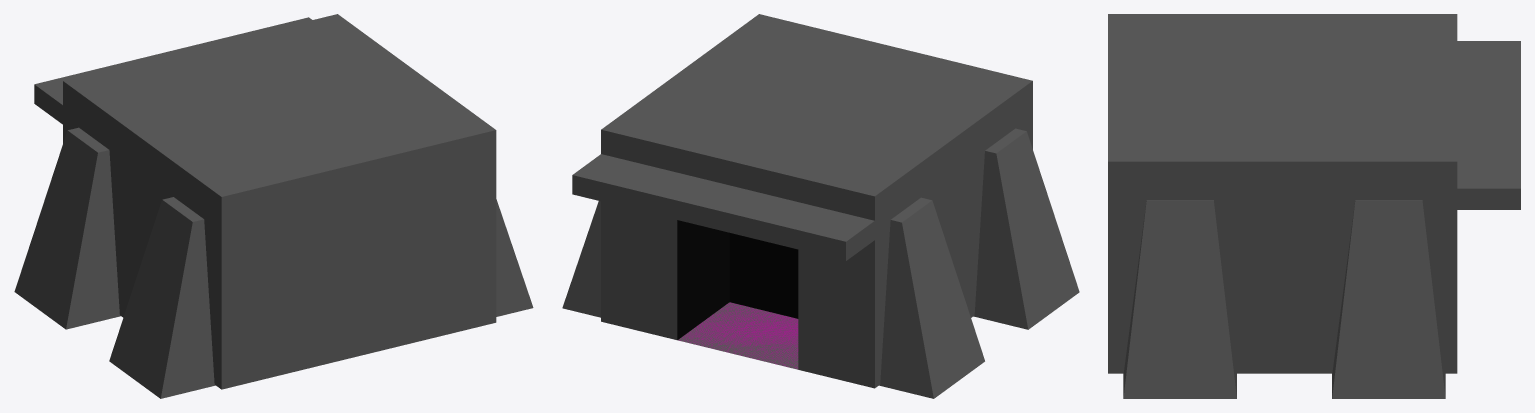
Rendered from Spawner.obj.
The picture shows the model from 3 angles, left to right: view 1: azimuth 30°, elevation 25°; view 2: azimuth 150°, elevation 25°; view 3: azimuth 270°, elevation 25°; orthographic projection. The views are drawn at different scales.
Parts seen in each view (by area): view 1: Cube.005_Cube.014; view 2: Cube.005_Cube.014; view 3: Cube.005_Cube.014.
Part boxes in pixels (x1,y1,x2,y2): Cube.005_Cube.014: (14, 14, 533, 398); Cube.005_Cube.014: (562, 14, 1079, 398); Cube.005_Cube.014: (1108, 14, 1520, 398).
Size of the model in its own units: 0.7387 by 0.3671 by 0.643.
